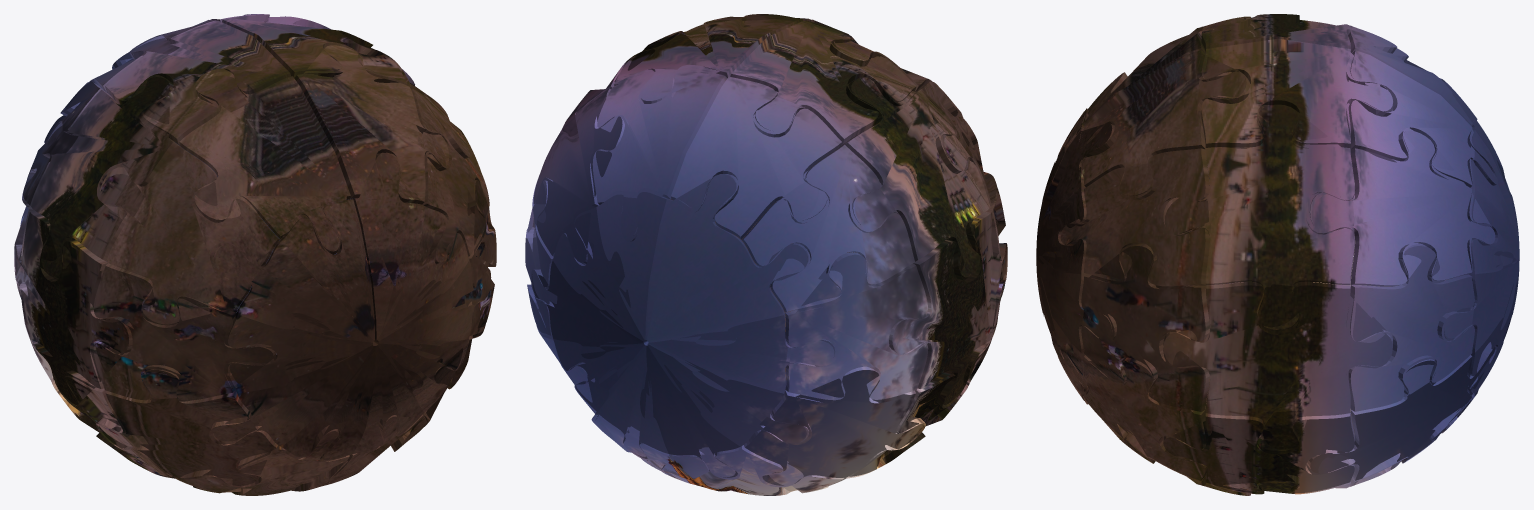
The model's file is easy-puzzle-v26.fbx.
The picture shows the model from 3 angles, left to right: view 1: azimuth 30°, elevation 25°; view 2: azimuth 150°, elevation 25°; view 3: azimuth 270°, elevation 25°; orthographic projection.
Parts seen in each view (by area): view 1: Puzzle.001, Puzzle.005, Puzzle.025, Puzzle.023, Puzzle.026, Puzzle.004, Puzzle.016, Puzzle.006, Puzzle.027, Puzzle.024, Puzzle.003, Puzzle.028 (+8 smaller); view 2: Puzzle.002, Puzzle.023, Puzzle.008, Puzzle.009, Puzzle.007, Puzzle.010, Puzzle.016, Puzzle.006, Puzzle.032, Puzzle.015, Puzzle.003, Puzzle.011 (+8 smaller); view 3: Puzzle.022, Puzzle.021, Puzzle.015, Puzzle.024, Puzzle.003, Puzzle.031, Puzzle.014, Puzzle.020, Puzzle.004, Puzzle.001, Puzzle.002, Puzzle.032 (+6 smaller).
Part boxes in pixels (x1,y1,x2,y2): Puzzle.001: (213, 153, 489, 459); Puzzle.005: (179, 71, 350, 254); Puzzle.025: (100, 144, 279, 324); Puzzle.023: (31, 77, 177, 279); Puzzle.026: (93, 263, 276, 400); Puzzle.004: (294, 45, 449, 204); Puzzle.016: (15, 210, 132, 404); Puzzle.006: (105, 20, 291, 144); Puzzle.027: (99, 369, 277, 485); Puzzle.024: (411, 88, 488, 264); Puzzle.003: (222, 14, 407, 85); Puzzle.028: (178, 429, 357, 495); Puzzle.002: (532, 174, 835, 477); Puzzle.023: (844, 77, 990, 279); Puzzle.008: (741, 145, 914, 312); Puzzle.009: (785, 252, 928, 400); Puzzle.007: (671, 76, 842, 239); Puzzle.010: (744, 366, 922, 485); Puzzle.016: (889, 210, 1006, 404); Puzzle.006: (730, 21, 916, 144); Puzzle.032: (592, 68, 727, 235); Puzzle.015: (533, 88, 624, 264); Puzzle.003: (614, 14, 799, 103); Puzzle.011: (664, 445, 843, 495); Puzzle.022: (1163, 104, 1354, 329); Puzzle.021: (1163, 282, 1392, 451); Puzzle.015: (1309, 130, 1495, 286); Puzzle.024: (1060, 148, 1209, 286); Puzzle.003: (1201, 38, 1393, 148); Puzzle.031: (1081, 243, 1209, 411); Puzzle.014: (1348, 244, 1474, 411); Puzzle.020: (1163, 411, 1354, 493); Puzzle.004: (1081, 50, 1250, 195); Puzzle.001: (1036, 111, 1114, 400); Puzzle.002: (1444, 82, 1519, 423); Puzzle.032: (1348, 50, 1494, 187).
Bounding box in the file's own units: 6.89 × 6.92 × 6.91.
